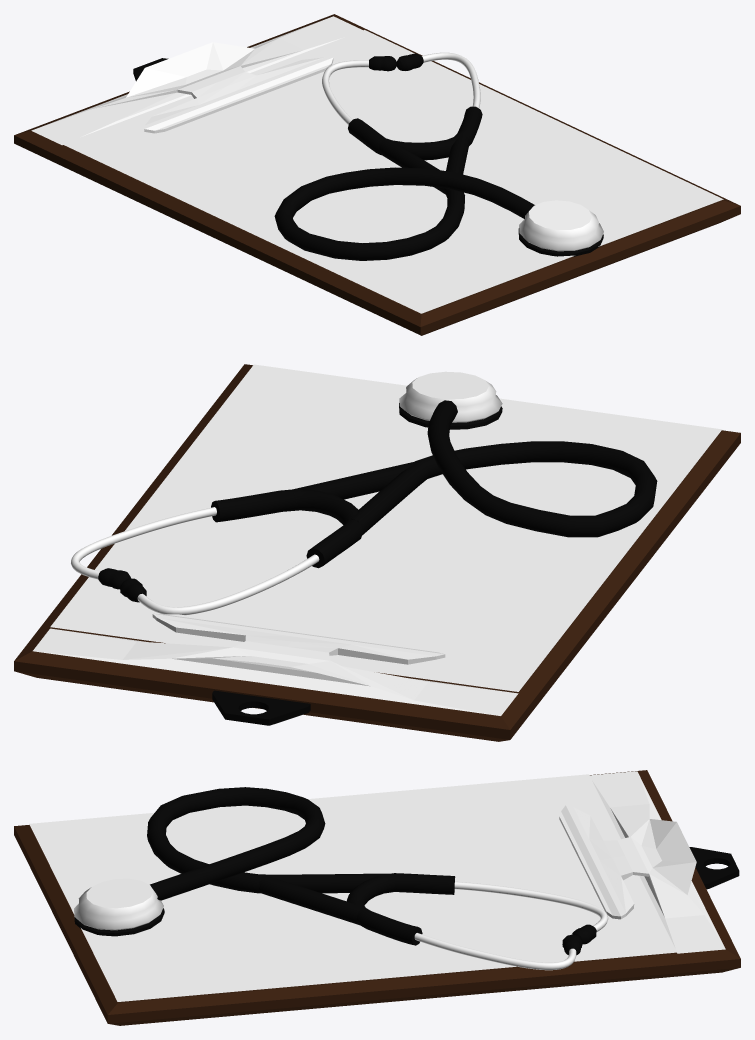
File: ClipBoard&Sthetiscope.fbx
3 views of the same model, one above another, from view 1: azimuth 30°, elevation 25°; view 2: azimuth 150°, elevation 25°; view 3: azimuth 270°, elevation 25° (orthographic). The views are drawn at different scales.
Parts seen in each view (by area): view 1: Object003, Object002, Cylinder009; view 2: Object003, Object002, Cylinder009; view 3: Object003, Object002, Cylinder009.
Part boxes in pixels (x1,y1,x2,y2): Object003: (62, 30, 723, 313); Object002: (14, 14, 740, 335); Cylinder009: (274, 52, 603, 260); Object003: (50, 364, 722, 691); Object002: (14, 364, 740, 741); Cylinder009: (71, 371, 657, 615); Object003: (29, 774, 677, 1001); Object002: (14, 770, 740, 1025); Cylinder009: (74, 787, 608, 970).
Bounding box in the file's own units: 30.47 × 3.65 × 38.2.
